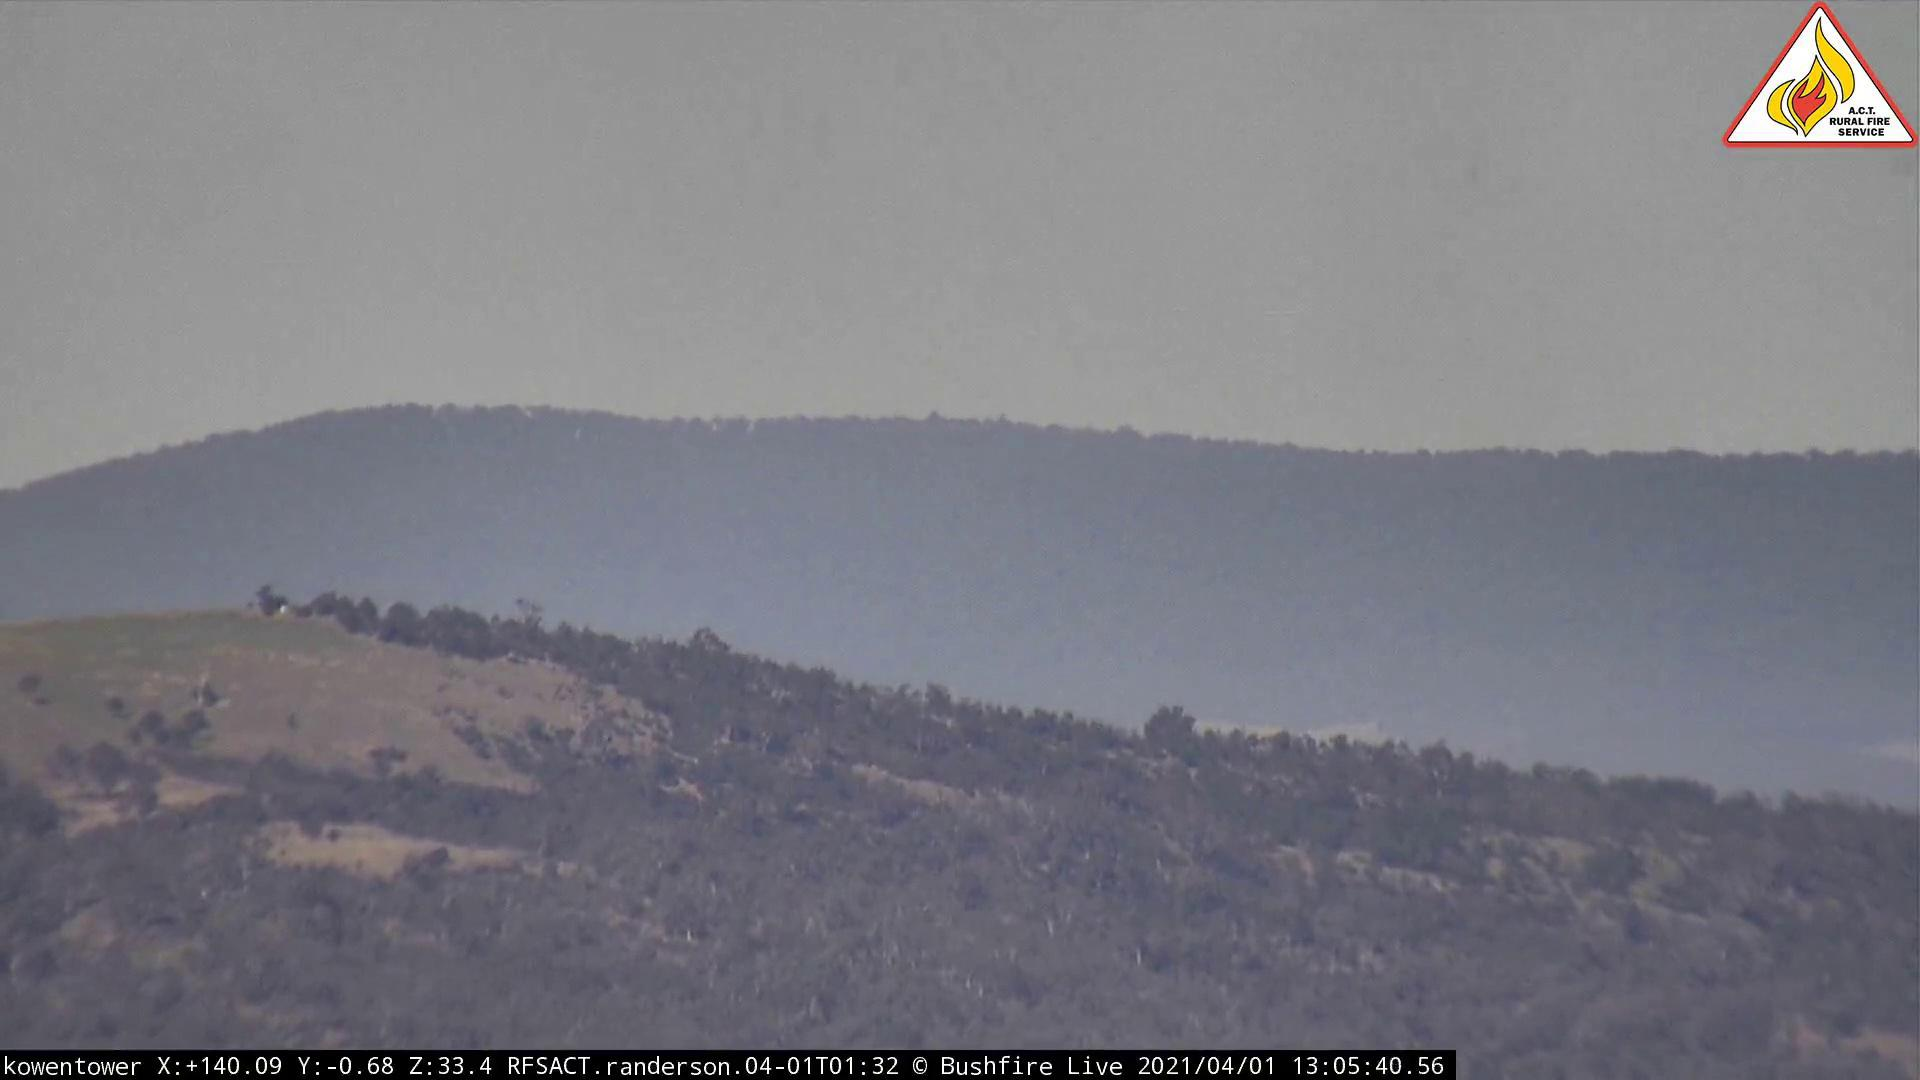Smoke: (1237, 3, 1605, 336)
